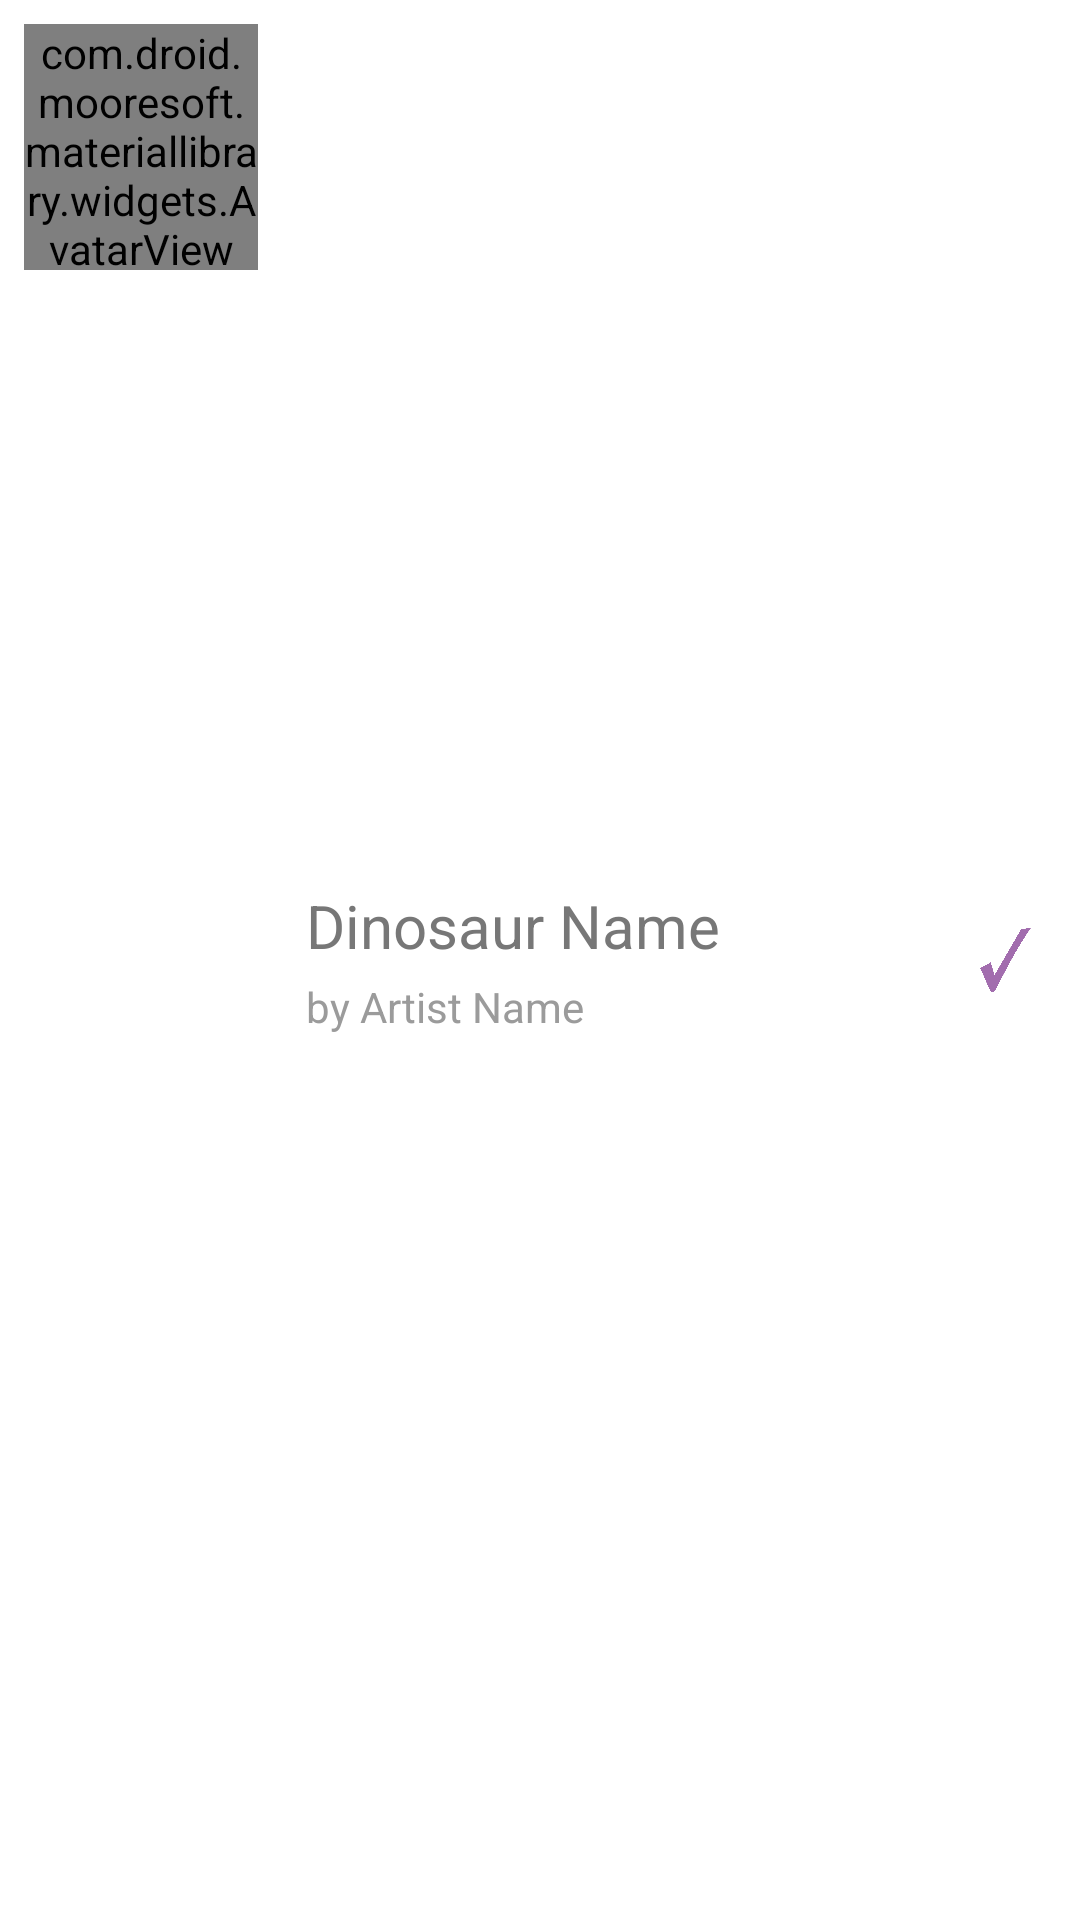

Named icons in this screenshot (1080w x 1920h) and their bounding boxes, {"left": x1, "top": y1, "right": x2, "bottom": y2}:
check: {"left": 980, "top": 928, "right": 1031, "bottom": 992}
